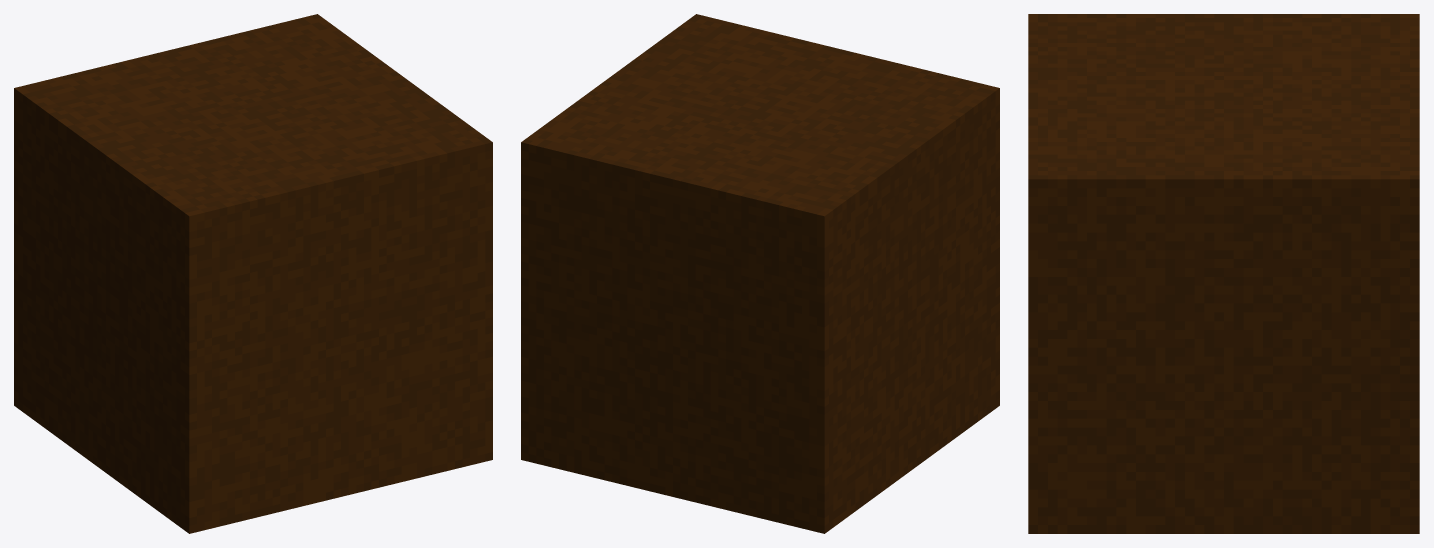
Rendered from LargeRocks-8-Rock1_2.obj.
The picture shows the model from 3 angles, left to right: view 1: azimuth 30°, elevation 25°; view 2: azimuth 150°, elevation 25°; view 3: azimuth 270°, elevation 25°; orthographic projection. The views are drawn at different scales.
Visible parts, largest first — view 1: Rock1_2; view 2: Rock1_2; view 3: Rock1_2.
Part boxes in pixels (box(x1,y1,x2,y2)): Rock1_2: box(14, 14, 492, 533); Rock1_2: box(521, 14, 999, 533); Rock1_2: box(1028, 14, 1419, 533).
Size of the model in its own units: 4 by 4 by 4.
Materials: 1 (1 with a texture image).
